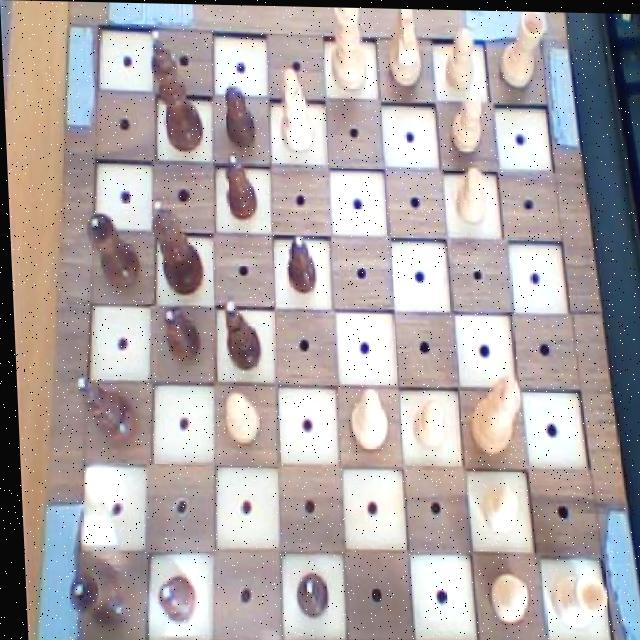bishop: (68, 368, 138, 453), (213, 290, 264, 371)
black-bishop: (144, 24, 207, 152)
black-knight: (217, 76, 259, 153), (219, 148, 259, 228), (147, 567, 196, 628), (283, 566, 332, 626), (157, 301, 201, 367), (278, 226, 318, 296)
black-queen: (80, 209, 141, 292), (59, 559, 126, 629)
black-rook: (271, 57, 319, 156), (339, 379, 390, 453)
white-bishop: (143, 193, 206, 298)
white-king: (382, 7, 428, 92)
white-knight: (475, 563, 530, 630), (442, 86, 487, 158), (436, 20, 477, 94), (447, 160, 491, 228), (217, 385, 260, 448), (475, 477, 521, 535), (402, 391, 445, 451)
white-pawn: (325, 6, 372, 99)
white-queen: (491, 9, 549, 93), (541, 566, 608, 631)
